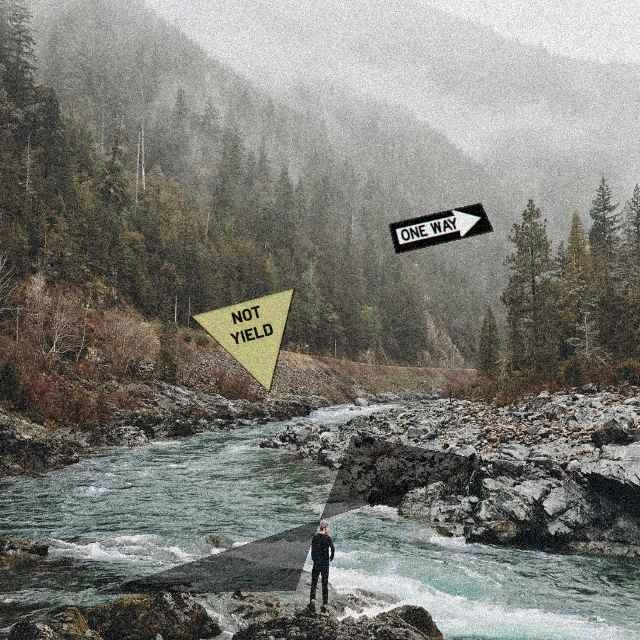NOT_YIELD: (190, 287, 295, 393)
ONE_WAY_ right: (388, 202, 494, 254)
